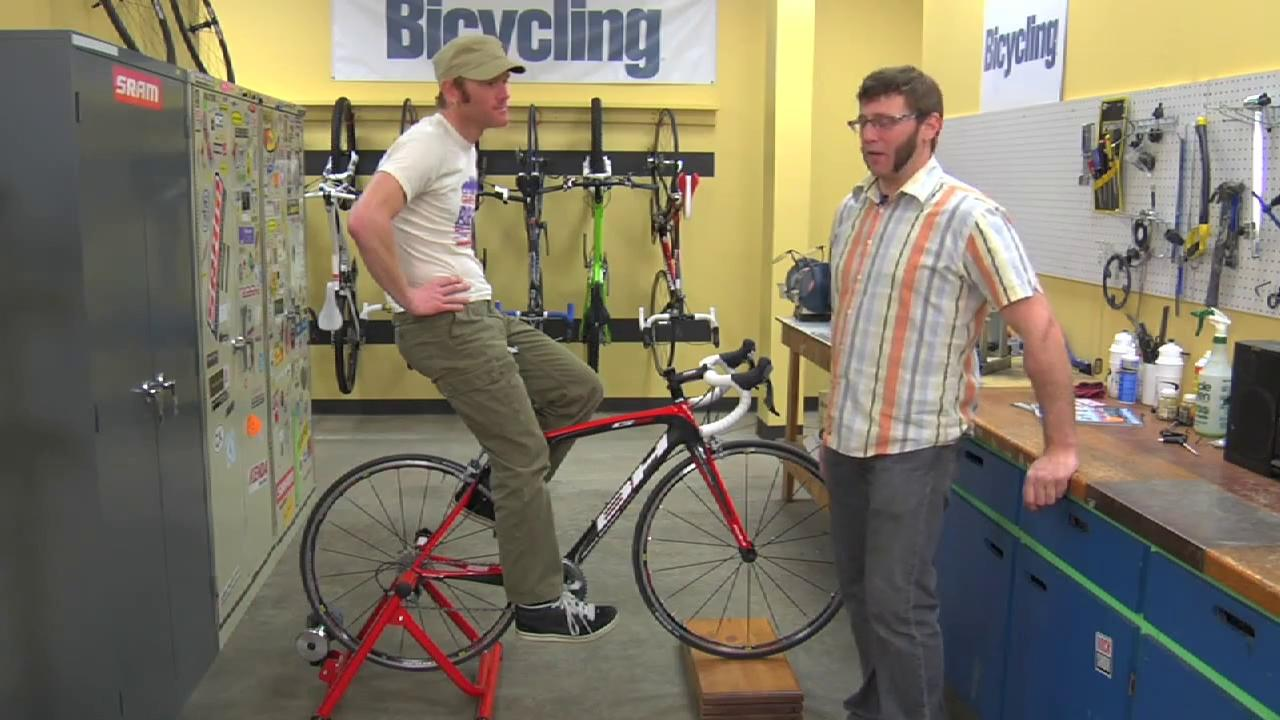victim: (344, 27, 634, 654), (814, 58, 1088, 719)
